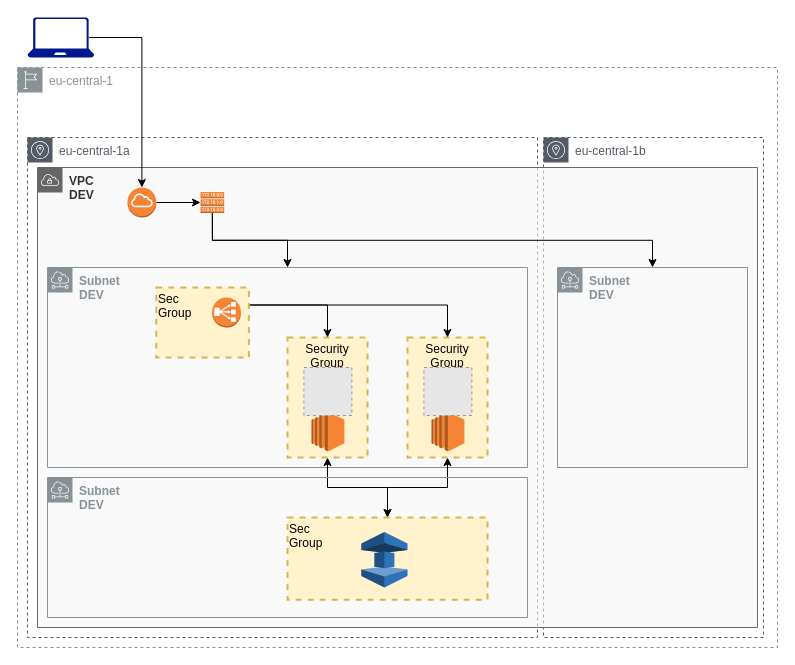
This 795x665 diagram has some shape labels left out. Grey dashed boxes stand in for pictures. The shapes that lost their labels are listed below. From the top down, each one's centre as x and y in pixels, then its label:
(141,202): Internet gateway
(212,202): Route table public
(226,312): ALB
